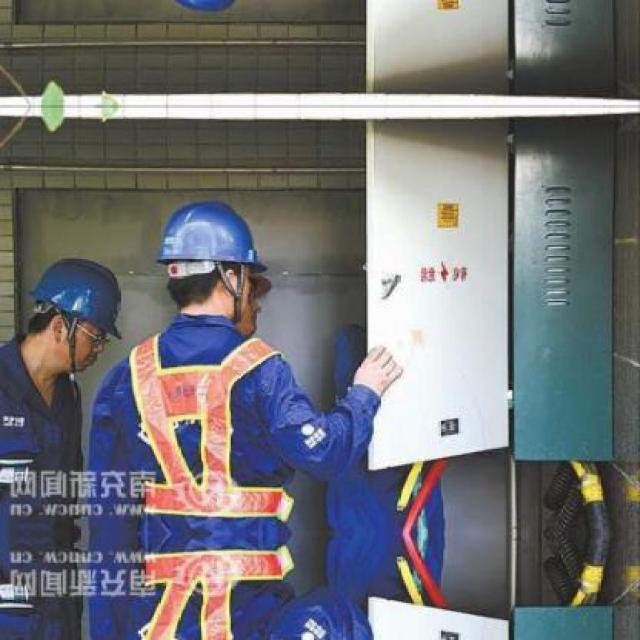Reflective-Jacket: (115, 321, 303, 538)
Safety-Helmet: (146, 194, 279, 296), (20, 253, 131, 352)
